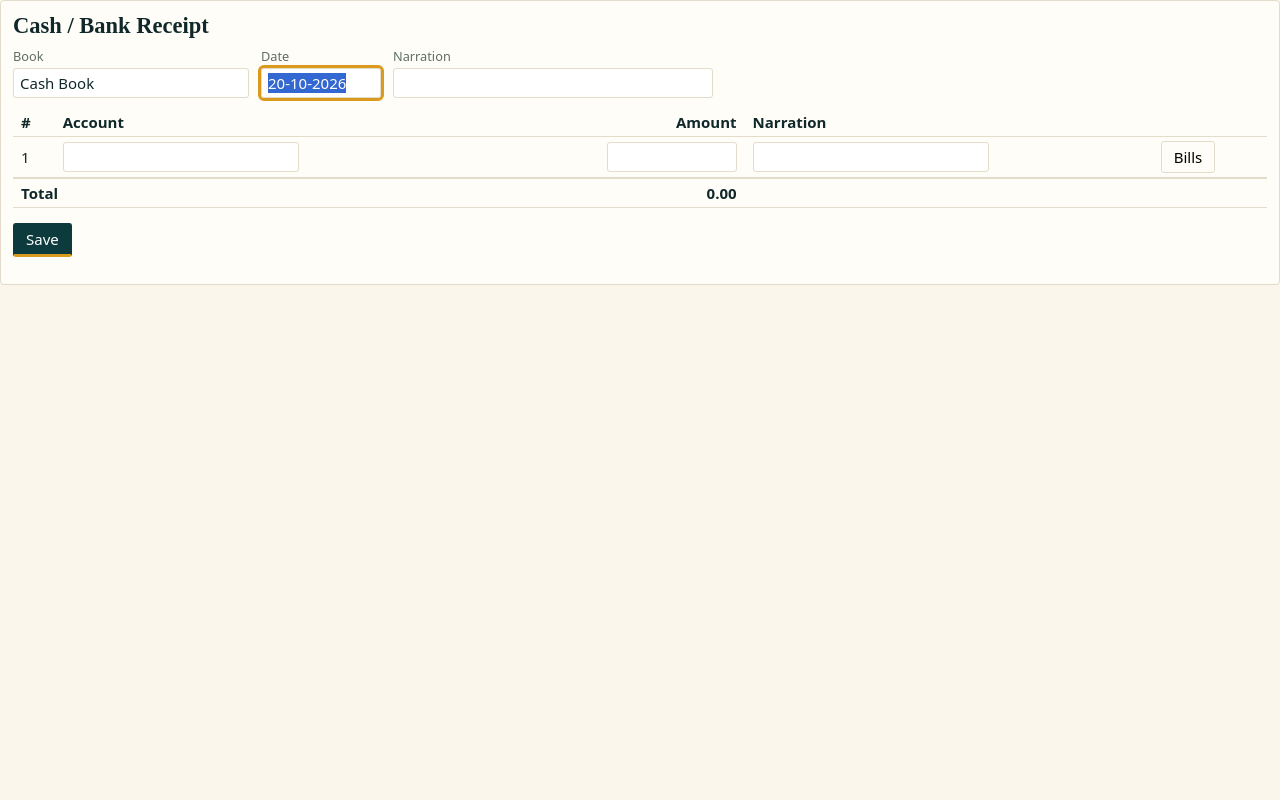
it: bills › changing the account of a line drops its bill adjustments
Expected: the dropdown labelled "Book" is shown, [13,68,249,98]
Type keys "12052026{Enter}{Enter}"
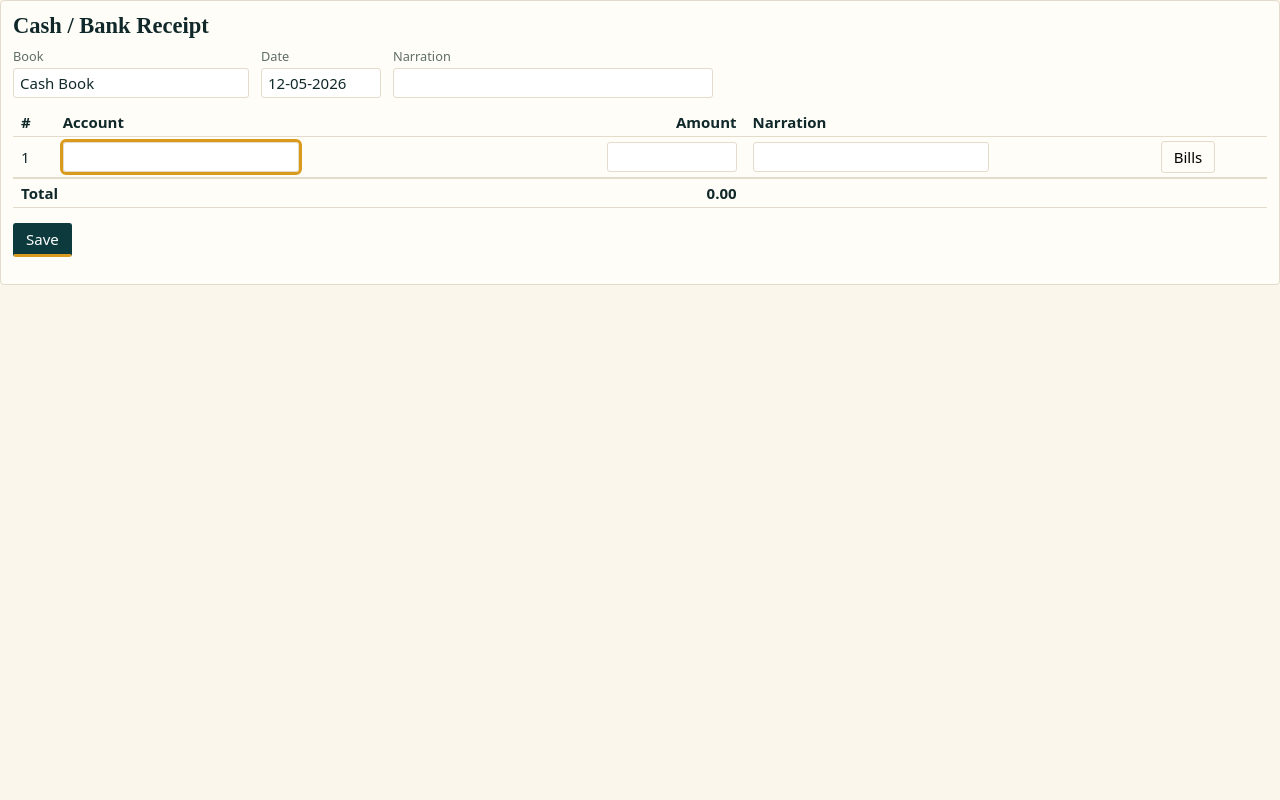
Type keys "ram{Enter}300{Control>}b{/Control}"
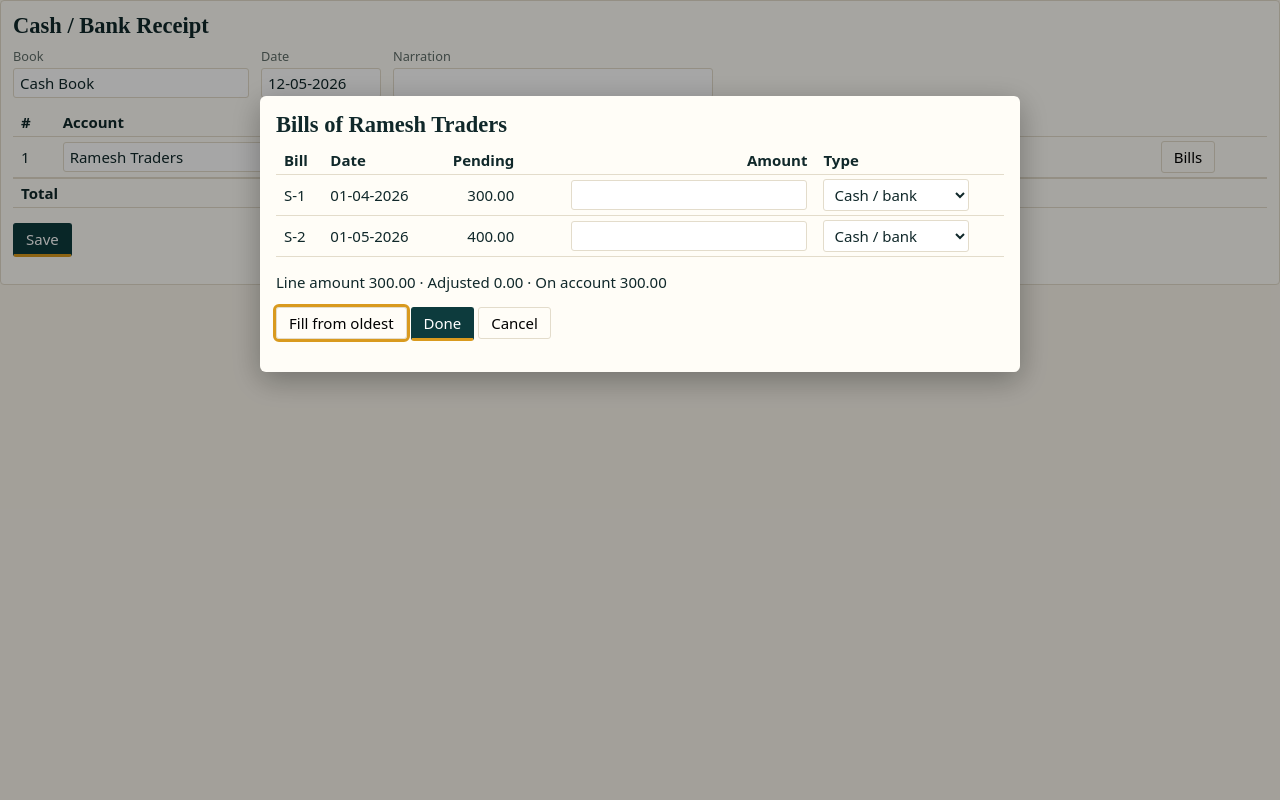
Expected: the field named "Amount for bill S-1" is shown, [572,180,808,210]
Type keys "{Alt>}a{/Alt}{Control>}{Enter}{/Control}"
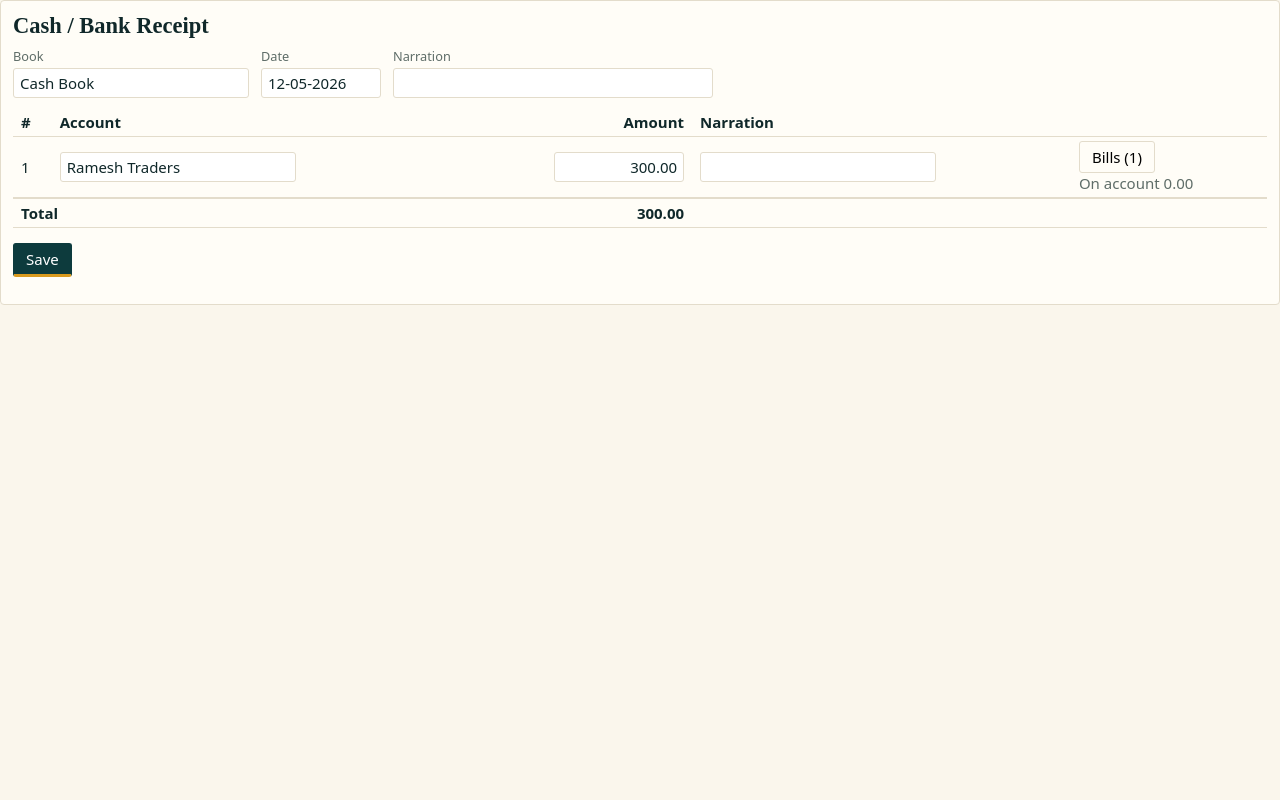
Click the dropdown named "Account line 1": [178, 167] box [60,152,296,182]
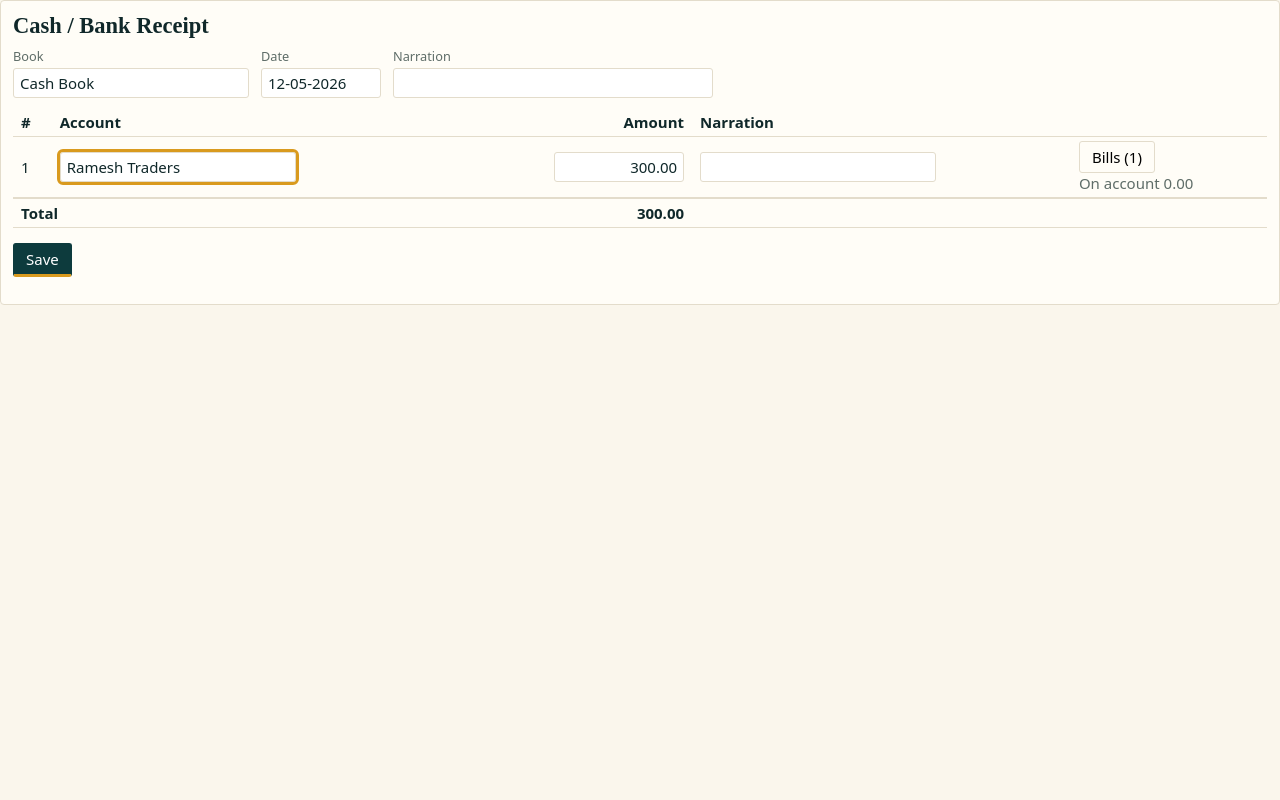
Type keys "suresh{Enter}"
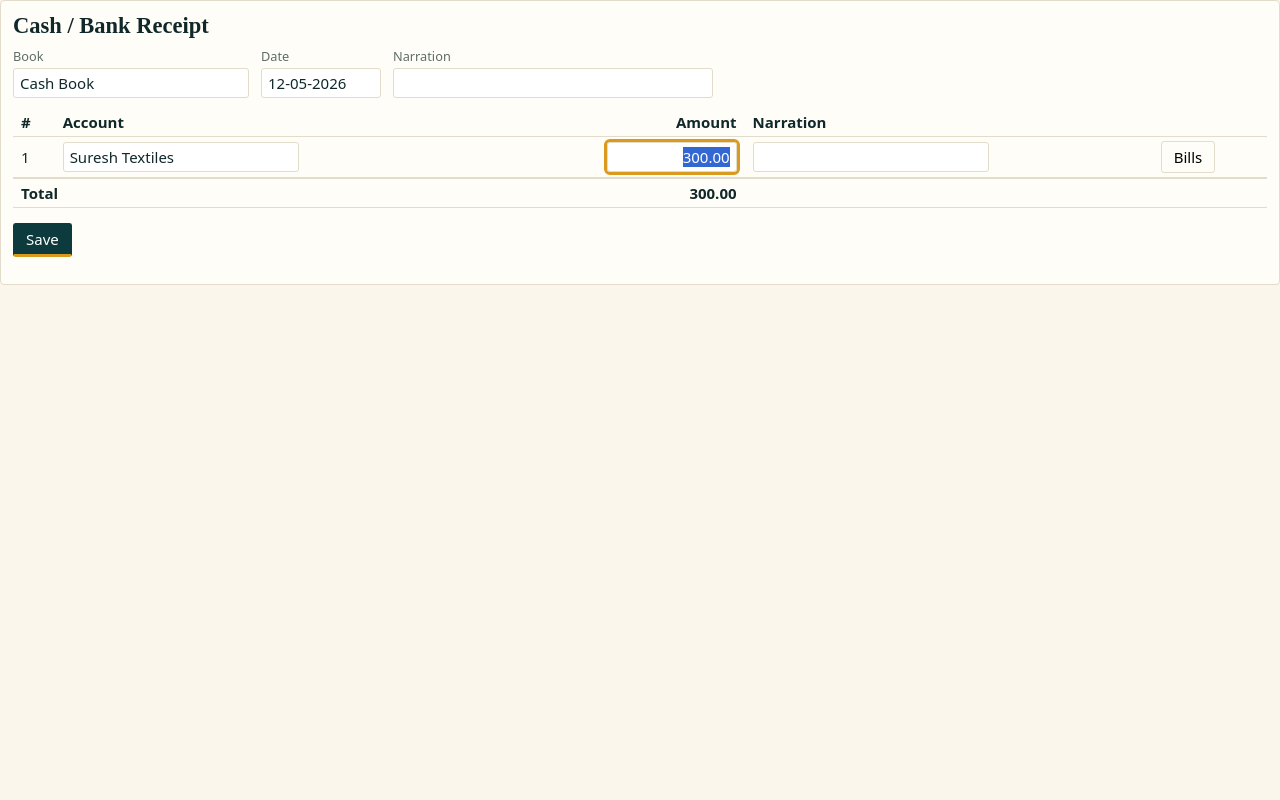
Type keys "{Control>}s{/Control}"
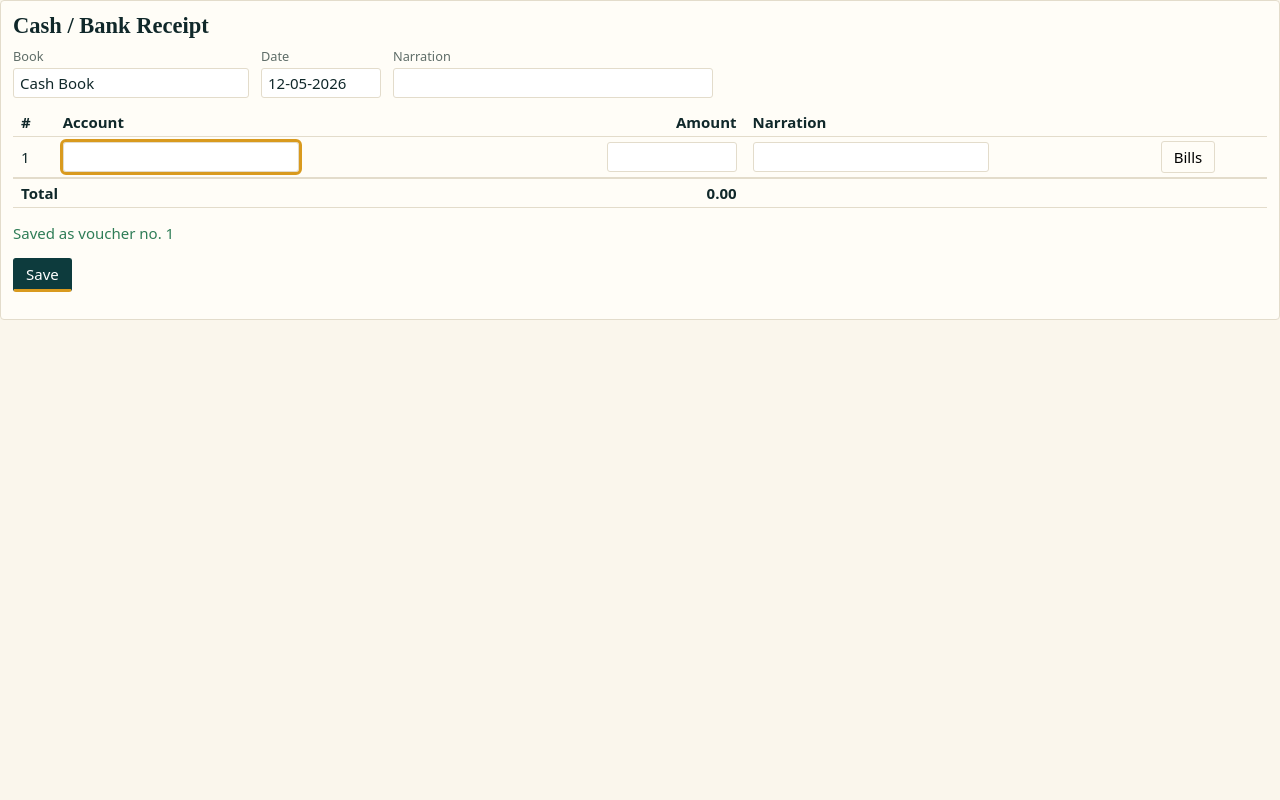
Expected: the message "Saved as voucher no. 1" is shown, [13,223,174,243]
